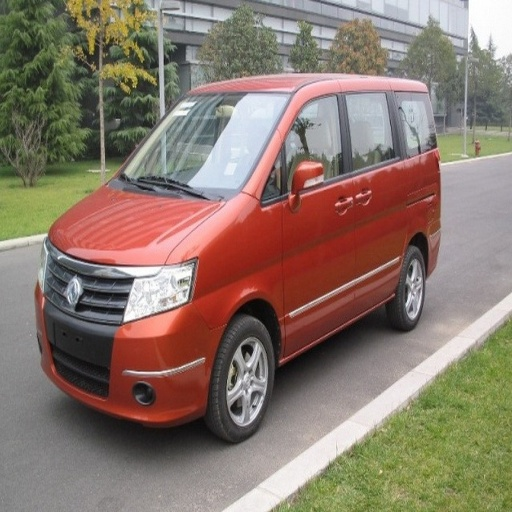front_bumper: (39, 247, 225, 426)
front_glass: (117, 94, 293, 197)
front_left_door: (262, 89, 365, 352)
